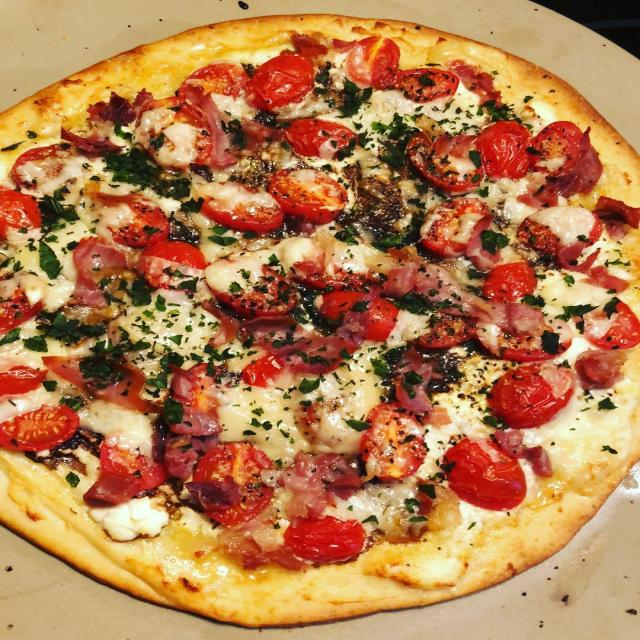pizza: (0, 11, 640, 631)
tomatoes: (188, 442, 278, 528), (438, 437, 530, 512), (486, 364, 576, 427), (358, 403, 424, 477), (416, 197, 494, 257), (207, 261, 295, 314), (144, 100, 212, 168), (284, 512, 368, 565), (516, 204, 603, 251), (249, 51, 318, 109), (96, 191, 168, 245), (324, 290, 398, 342), (204, 184, 282, 233), (274, 170, 345, 222), (477, 122, 535, 178), (283, 120, 360, 161), (107, 436, 163, 492), (0, 408, 77, 448), (348, 36, 398, 94), (145, 242, 208, 286), (582, 300, 640, 347), (534, 121, 584, 171), (184, 361, 229, 414), (186, 64, 253, 99), (13, 143, 67, 185), (0, 271, 36, 329), (397, 68, 461, 100), (0, 190, 39, 238), (485, 260, 534, 298), (413, 317, 468, 349), (242, 356, 288, 388), (0, 370, 52, 397)
